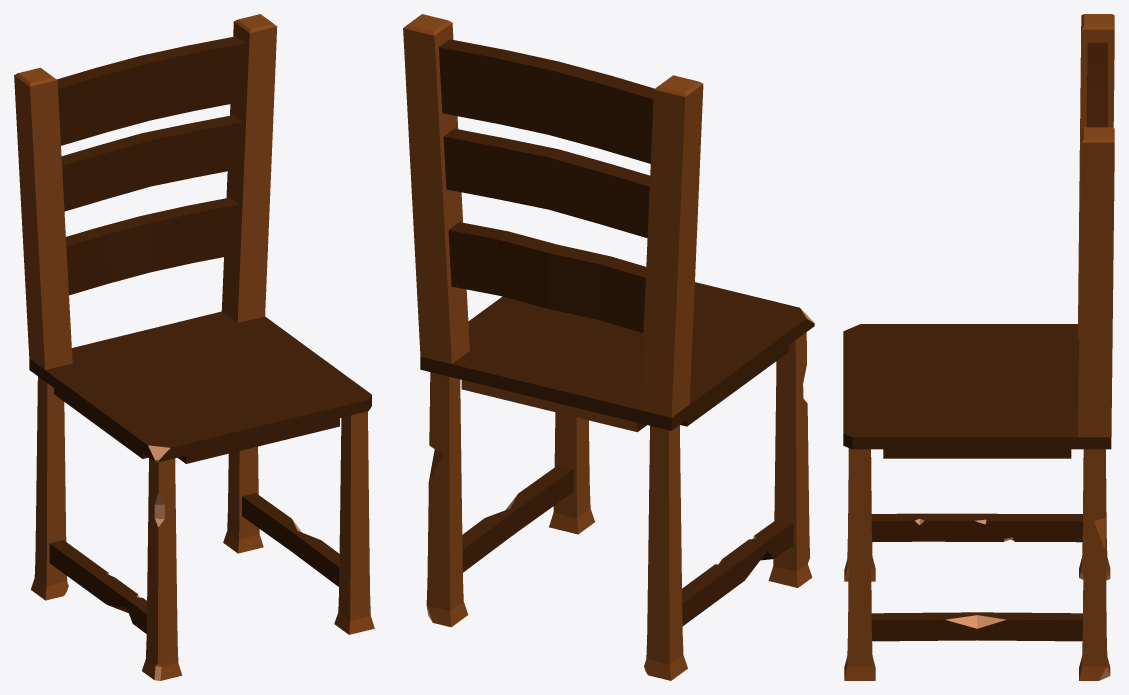
Rendered from Chair.fbx.
3 renders of one model, left to right at view 1: azimuth 30°, elevation 25°; view 2: azimuth 150°, elevation 25°; view 3: azimuth 270°, elevation 25°, orthographic. The views are drawn at different scales.
Visible parts, largest first — view 1: Chair; view 2: Chair; view 3: Chair.
Part boxes in pixels (<box>): Chair: <box>14,14,374,680</box>; Chair: <box>403,14,814,680</box>; Chair: <box>843,14,1114,680</box>.
Size of the model in its own units: 112 by 225 by 101.
